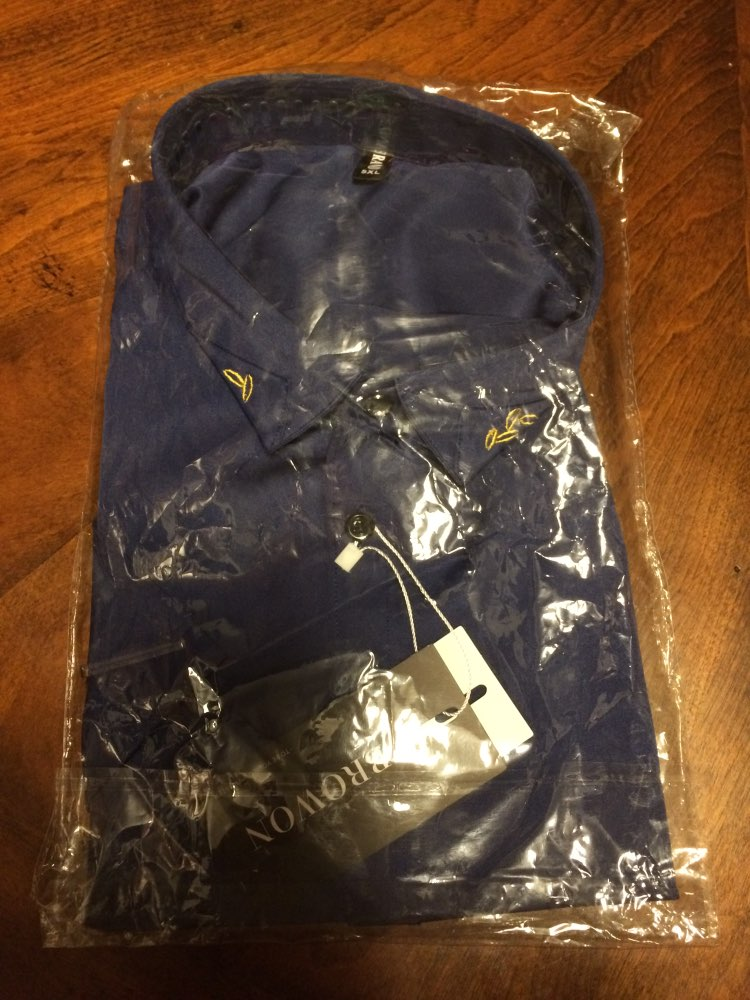shirts: (105, 115, 651, 922)
